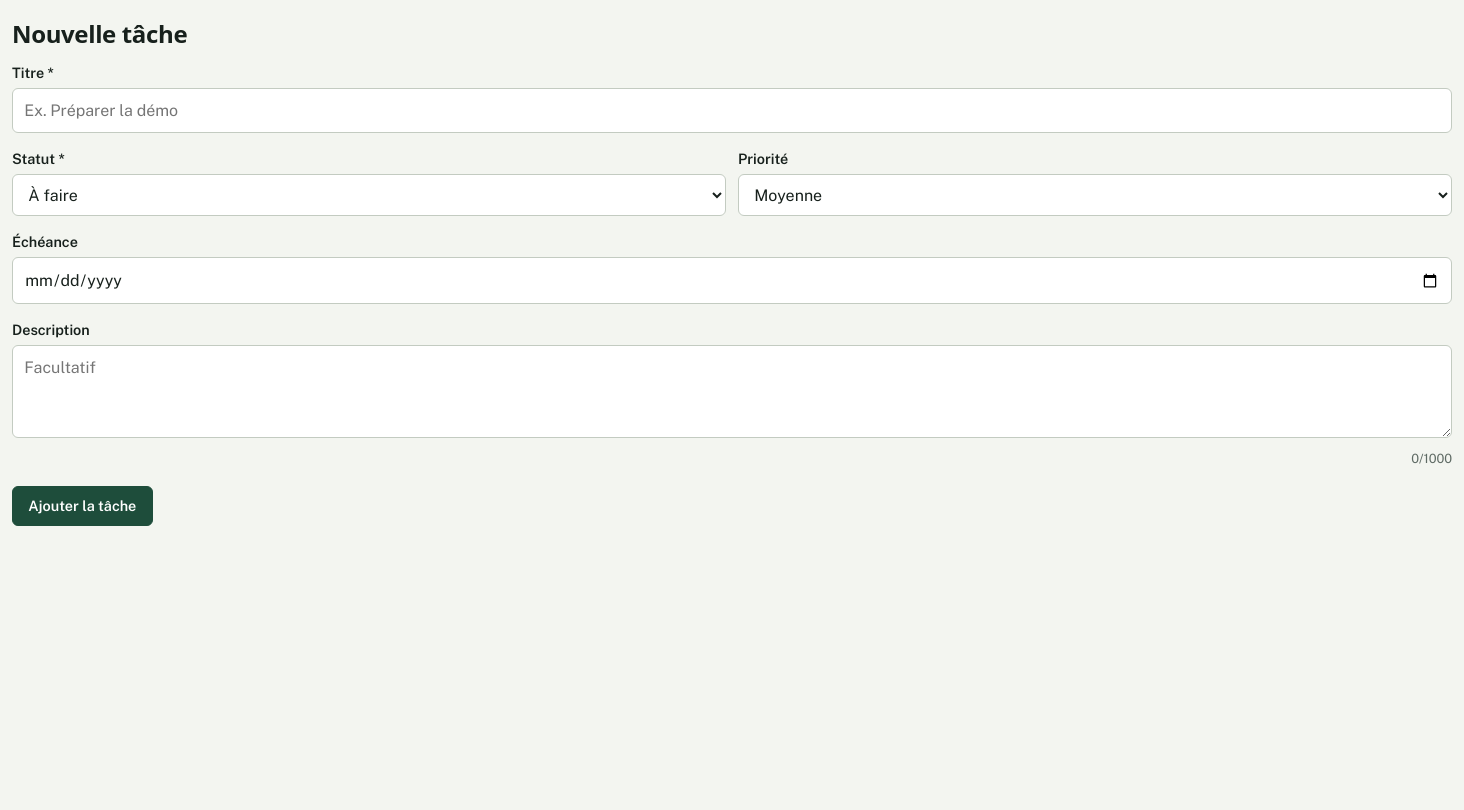
Scenario: <TaskForm /> › affiche le message d'erreur renvoyé par l'API
In the field labelled "Titre *": (732, 111) [12, 88, 1452, 134], type "T"
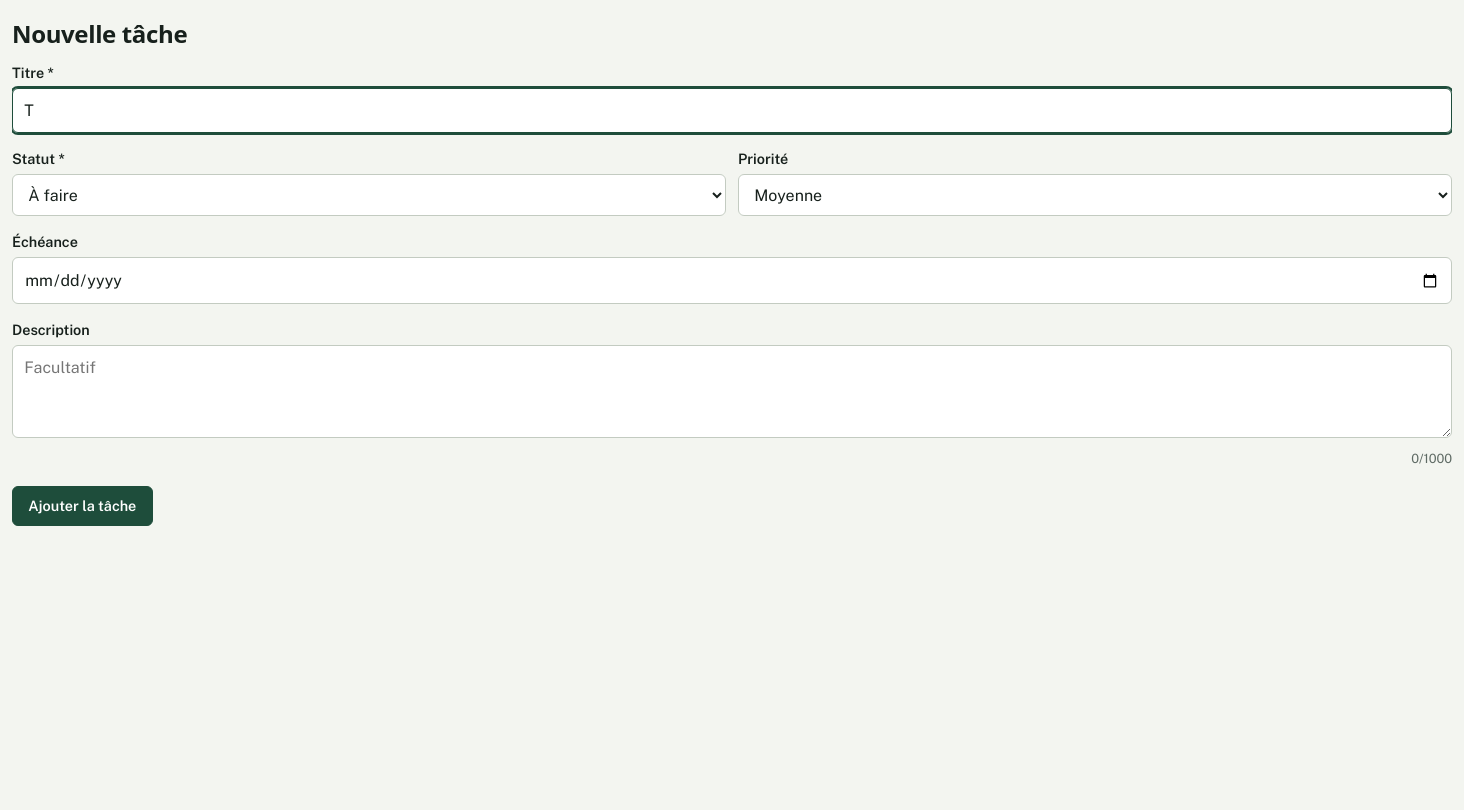
Click the button "Ajouter la tâche": (82, 506) [12, 486, 152, 526]
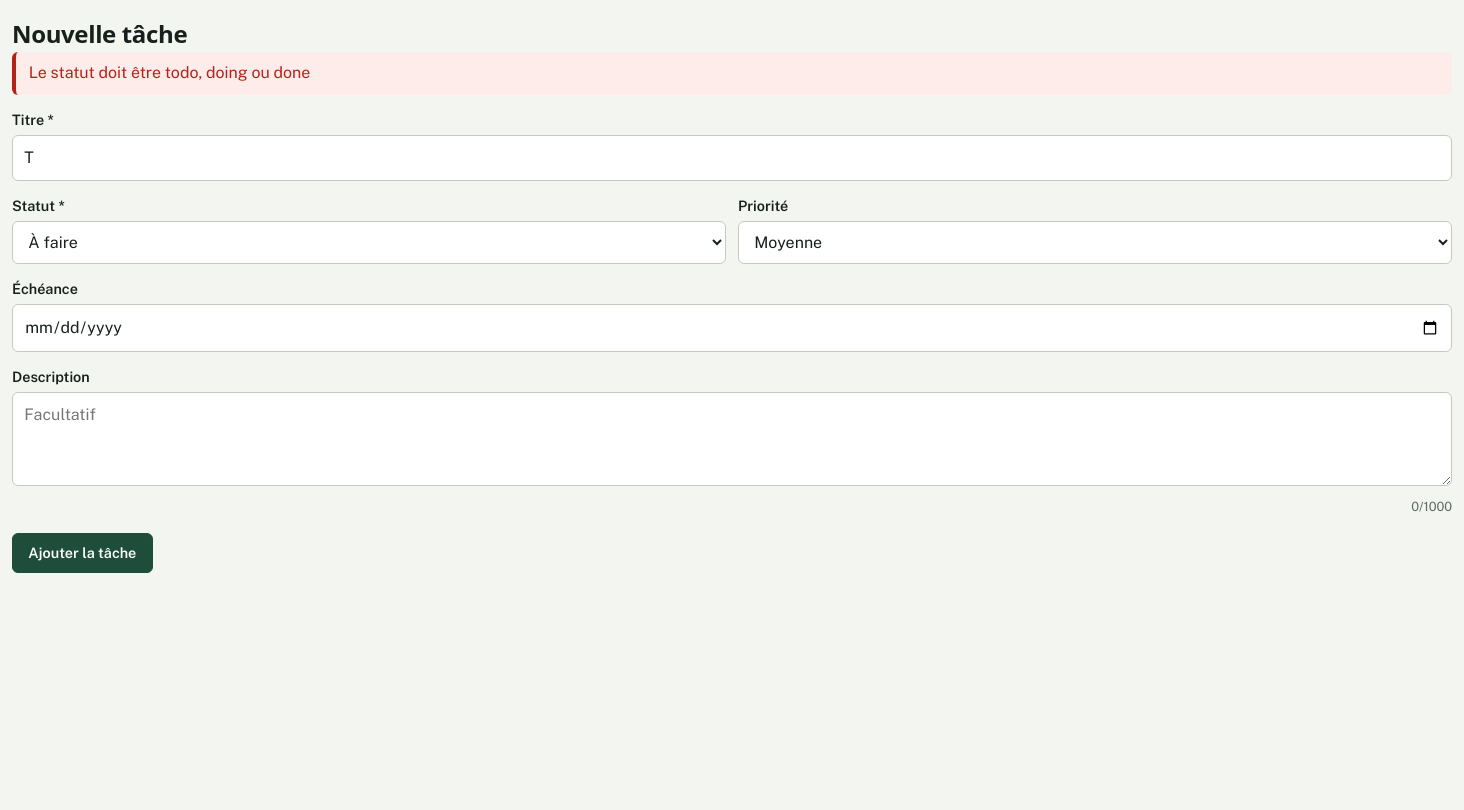
Expected: the message reads "Le statut doit être todo, doing ou done", [29, 63, 310, 82]
